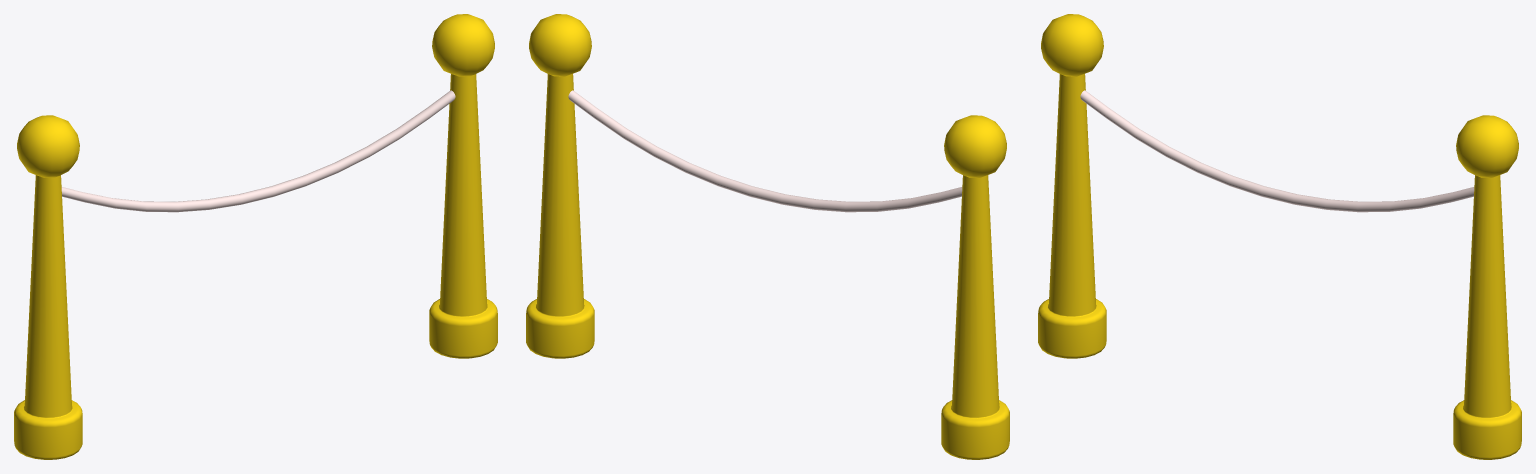
File: Store_1_Fence_1.glb
The picture shows the model from 3 angles, left to right: view 1: azimuth 30°, elevation 25°; view 2: azimuth 150°, elevation 25°; view 3: azimuth 330°, elevation 25°; orthographic projection.
Visible parts, largest first — view 1: Store_1_Fence_1; view 2: Store_1_Fence_1; view 3: Store_1_Fence_1.
Boxes of the visible parts, <box> form: Store_1_Fence_1: <box>14,14,497,459</box>; Store_1_Fence_1: <box>526,14,1009,459</box>; Store_1_Fence_1: <box>1038,14,1521,459</box>.
Size of the model in its own units: 1.49 by 0.9862 by 0.1872.
1 material, 1 textured.
